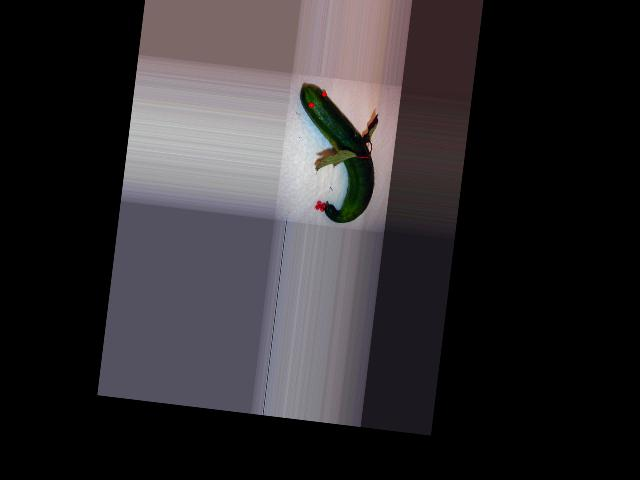cucumber: (285, 84, 384, 226)
